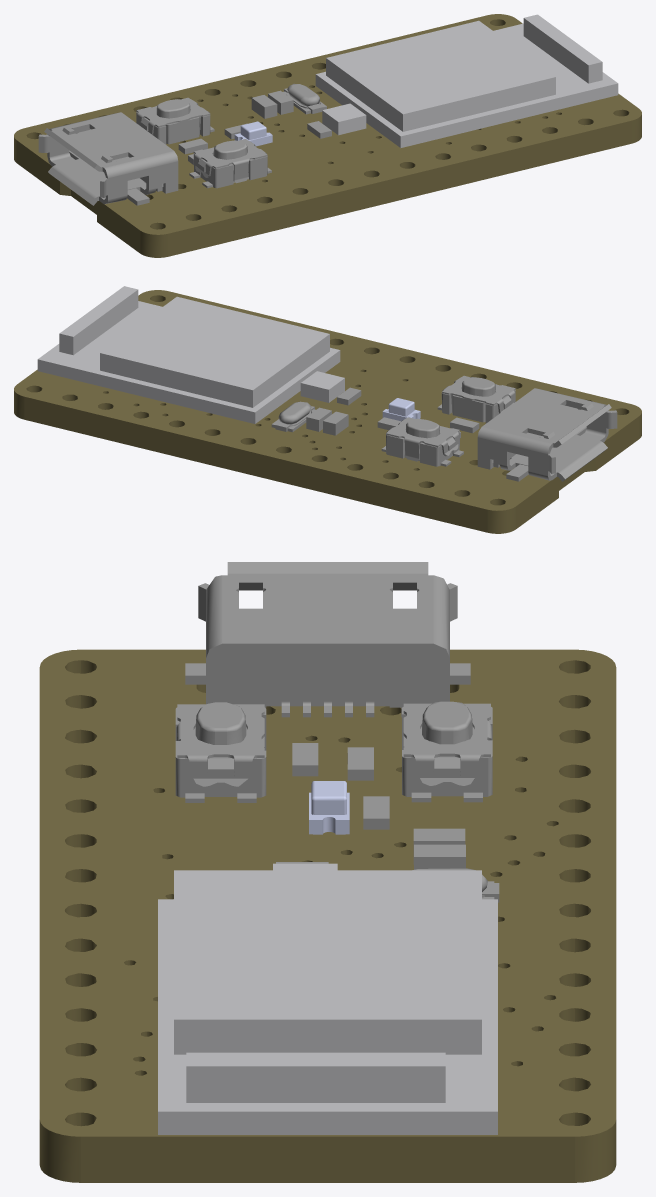
The model's file is ada-4481.glb.
3 views of the same model, one above another, from view 1: azimuth 30°, elevation 25°; view 2: azimuth 150°, elevation 25°; view 3: azimuth 270°, elevation 25° (orthographic). The views are drawn at different scales.
Parts seen in each view (by area): view 1: 0.16666666666666666_0.16666666666666666_0.08333333333333333_, 0.5833333333333334_0.5833333333333334_0.5833333333333334_0.8, 0.3333333333333333_0.3333333333333333_0.3333333333333333_0, 0.5833333333333334_0.6666666666666666_0.8333333333333334_0; view 2: 0.16666666666666666_0.16666666666666666_0.08333333333333333_, 0.5833333333333334_0.5833333333333334_0.5833333333333334_0.8, 0.3333333333333333_0.3333333333333333_0.3333333333333333_0, 0.5833333333333334_0.6666666666666666_0.8333333333333334_0; view 3: 0.16666666666666666_0.16666666666666666_0.08333333333333333_, 0.5833333333333334_0.5833333333333334_0.5833333333333334_0.8, 0.3333333333333333_0.3333333333333333_0.3333333333333333_0, 0.5833333333333334_0.6666666666666666_0.8333333333333334_0.
Boxes of the visible parts, x1,y1,x2,y2 form: 0.16666666666666666_0.16666666666666666_0.08333333333333333_: (14, 14, 641, 257); 0.5833333333333334_0.5833333333333334_0.5833333333333334_0.8: (315, 14, 618, 147); 0.3333333333333333_0.3333333333333333_0.3333333333333333_0: (38, 83, 331, 205); 0.5833333333333334_0.6666666666666666_0.8333333333333334_0: (234, 121, 272, 146); 0.16666666666666666_0.16666666666666666_0.08333333333333333_: (14, 290, 641, 533); 0.5833333333333334_0.5833333333333334_0.5833333333333334_0.8: (37, 286, 344, 423); 0.3333333333333333_0.3333333333333333_0.3333333333333333_0: (271, 375, 617, 481); 0.5833333333333334_0.6666666666666666_0.8333333333333334_0: (382, 398, 420, 421); 0.16666666666666666_0.16666666666666666_0.08333333333333333_: (39, 649, 616, 1182); 0.5833333333333334_0.5833333333333334_0.5833333333333334_0.8: (158, 863, 497, 1134); 0.3333333333333333_0.3333333333333333_0.3333333333333333_0: (175, 562, 499, 902); 0.5833333333333334_0.6666666666666666_0.8333333333333334_0: (309, 781, 349, 834).
Bounding box in the file's own units: 3.62 × 0.5739 × 1.78.
